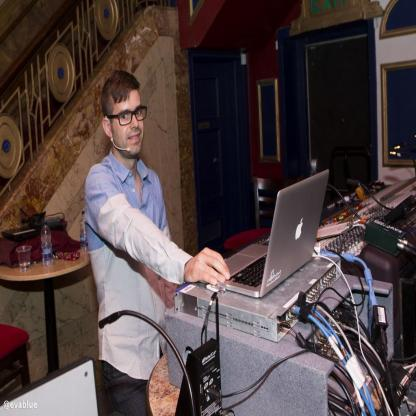board: (221, 168, 329, 299), (40, 221, 52, 264), (80, 212, 88, 262)
